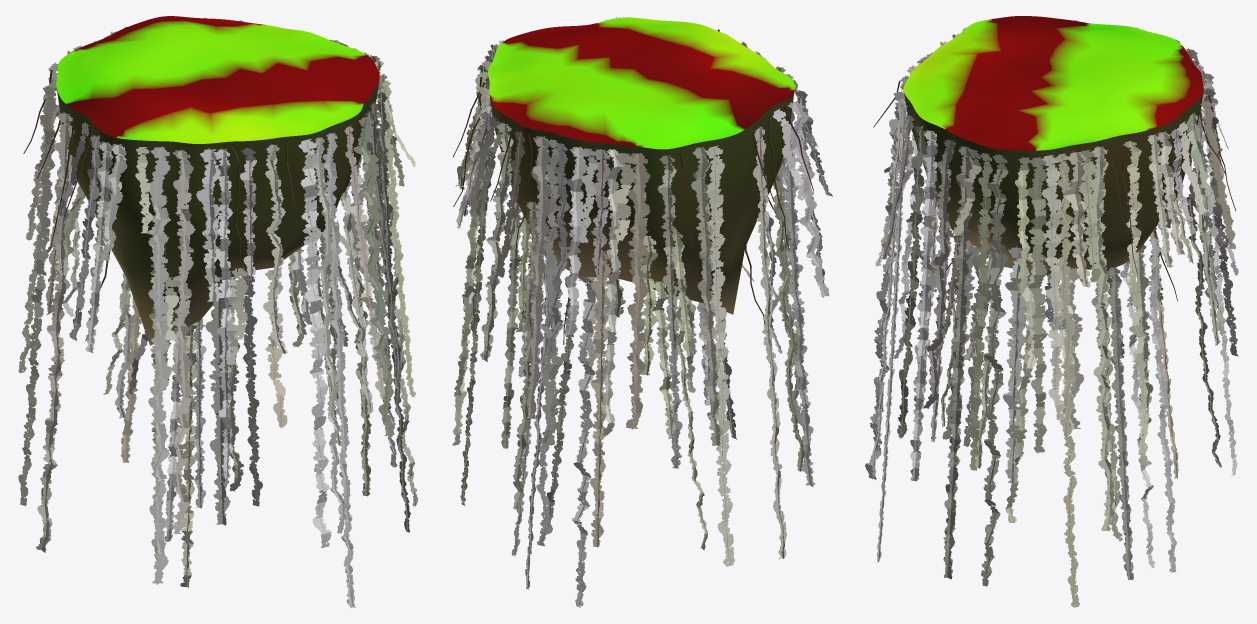
The model's file is SM_H03_Floater06.fbx.
The picture shows the model from 3 angles, left to right: view 1: azimuth 30°, elevation 25°; view 2: azimuth 150°, elevation 25°; view 3: azimuth 270°, elevation 25°; orthographic projection. The views are drawn at different scales.
Parts seen in each view (by area): view 1: SM_H03_Floater06_Ivy, SM_H03_Floater06; view 2: SM_H03_Floater06_Ivy, SM_H03_Floater06; view 3: SM_H03_Floater06_Ivy, SM_H03_Floater06.
Boxes of the visible parts, left/top/right/bottom form: SM_H03_Floater06_Ivy: left=18, top=17, right=417, bottom=608; SM_H03_Floater06: left=56, top=16, right=379, bottom=345; SM_H03_Floater06_Ivy: left=452, top=17, right=833, bottom=607; SM_H03_Floater06: left=488, top=17, right=794, bottom=314; SM_H03_Floater06_Ivy: left=865, top=18, right=1238, bottom=607; SM_H03_Floater06: left=904, top=16, right=1203, bottom=274.
Bounding box in the file's own units: 23.65 × 32.73 × 22.78.
